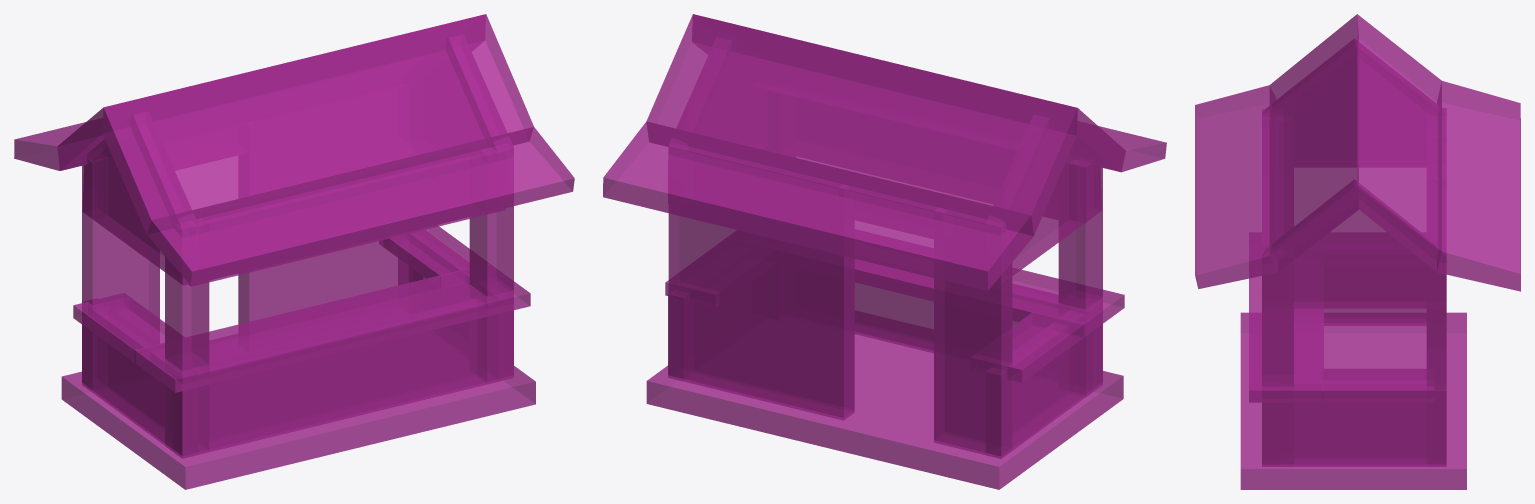
The model's file is SM_Bld_Beach_Shop_03_Collision.fbx.
The picture shows the model from 3 angles, left to right: view 1: azimuth 30°, elevation 25°; view 2: azimuth 150°, elevation 25°; view 3: azimuth 270°, elevation 25°; orthographic projection. The views are drawn at different scales.
Visible parts, largest first — view 1: SM_Bld_Beach_Shop_03_Collision; view 2: SM_Bld_Beach_Shop_03_Collision; view 3: SM_Bld_Beach_Shop_03_Collision.
Part boxes in pixels (x1,y1,x2,y2): SM_Bld_Beach_Shop_03_Collision: (14,14,574,489); SM_Bld_Beach_Shop_03_Collision: (603,14,1166,489); SM_Bld_Beach_Shop_03_Collision: (1195,14,1520,489).
Bounding box in the file's own units: 433 × 368 × 349.
